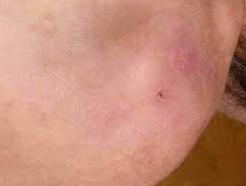Stage3: (102, 16, 210, 155)
